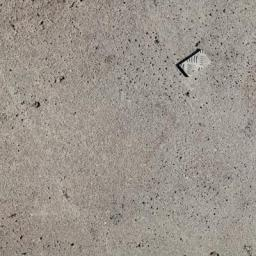FOD: (177, 47, 214, 84)
